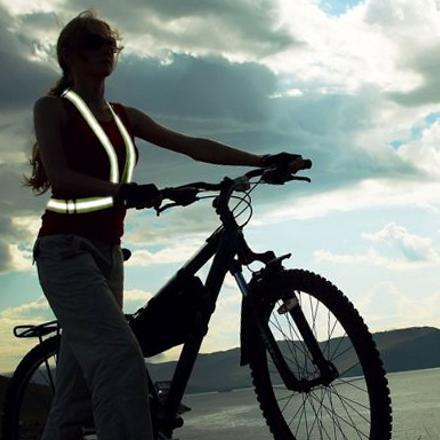Vest: (30, 85, 138, 218)
